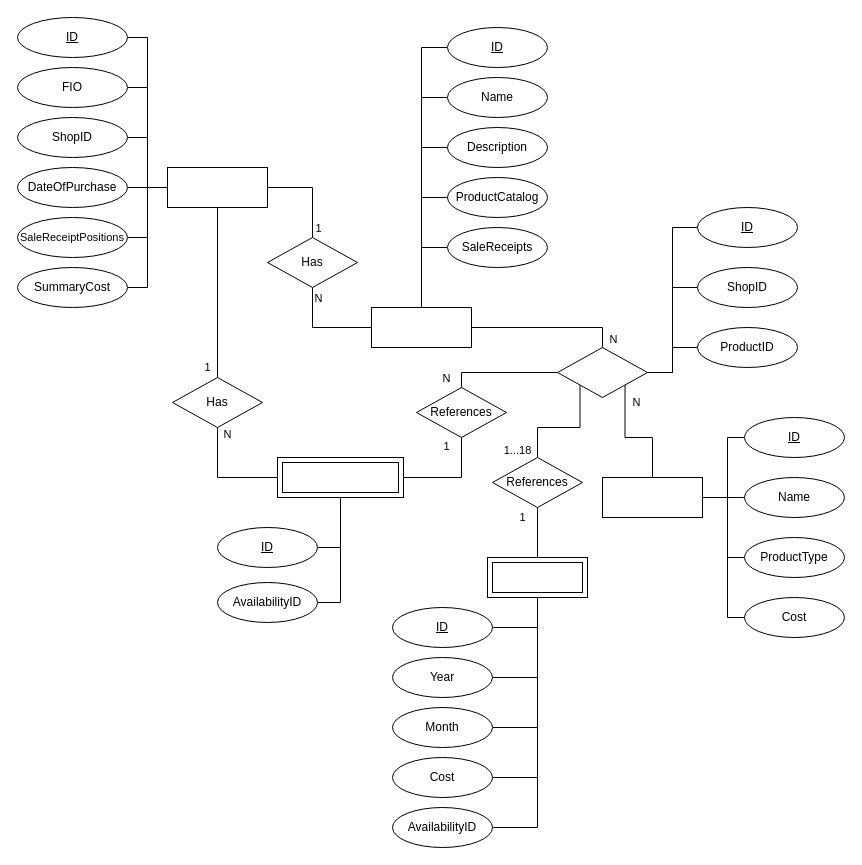
Image size: 862x865. Some labels were removed from this diagram. The shapes that lost their labels are listed below. From the top down, each one's centre as x and y in pixels, then its label:
At (x=217, y=187): "SaleReceipt".
At (x=421, y=327): "Shop".
At (x=602, y=372): "Availability".
At (x=340, y=477): "SaleReceiptPosition".
At (x=652, y=497): "Product".
At (x=537, y=577): "CostStory".
